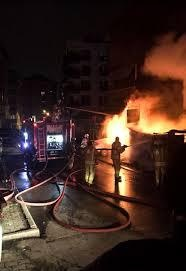fire: (102, 102, 134, 147)
